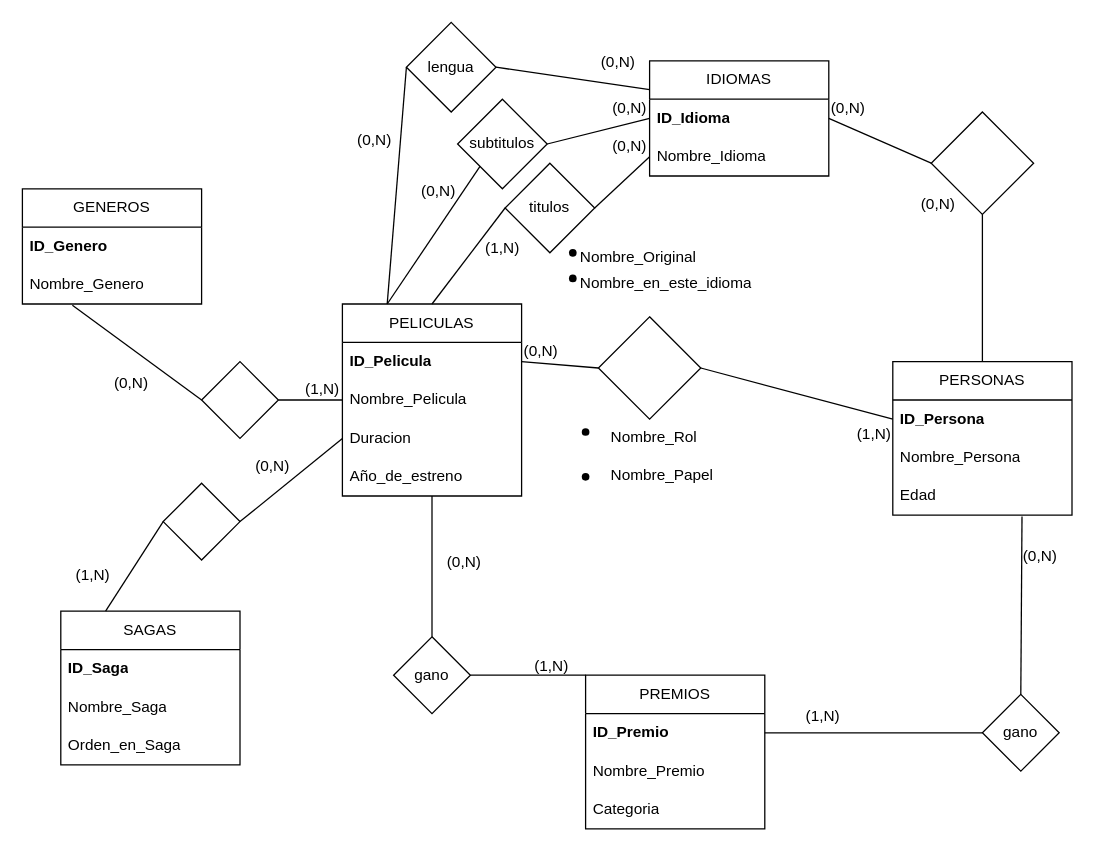
The diagram is 1094 pixels wide and 851 high, and some of its shapes have lost their labels. Here are the shapes that lost their labels. From the top down, the centre of each, then its label:
pixel 982 162: habla en
pixel 649 367: participacion
pixel 239 399: es de
pixel 201 521: forma parte
